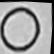no answer: (0, 5, 44, 54)
